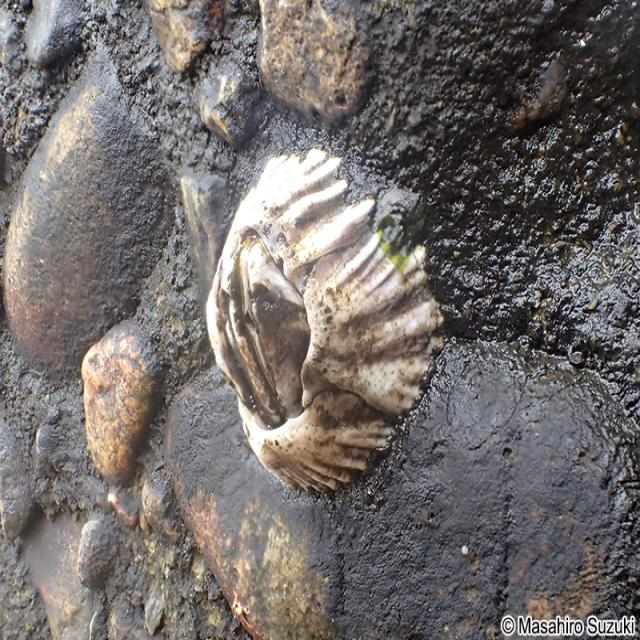barnacles: (202, 139, 440, 509)
